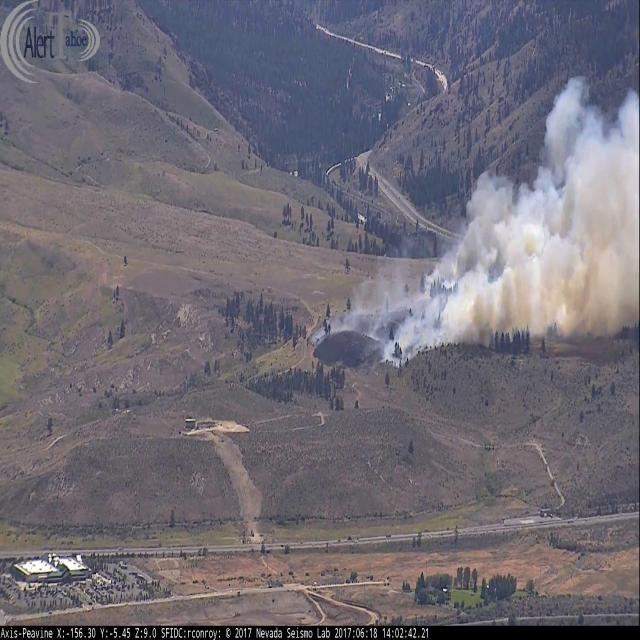smoke: (313, 71, 640, 378)
